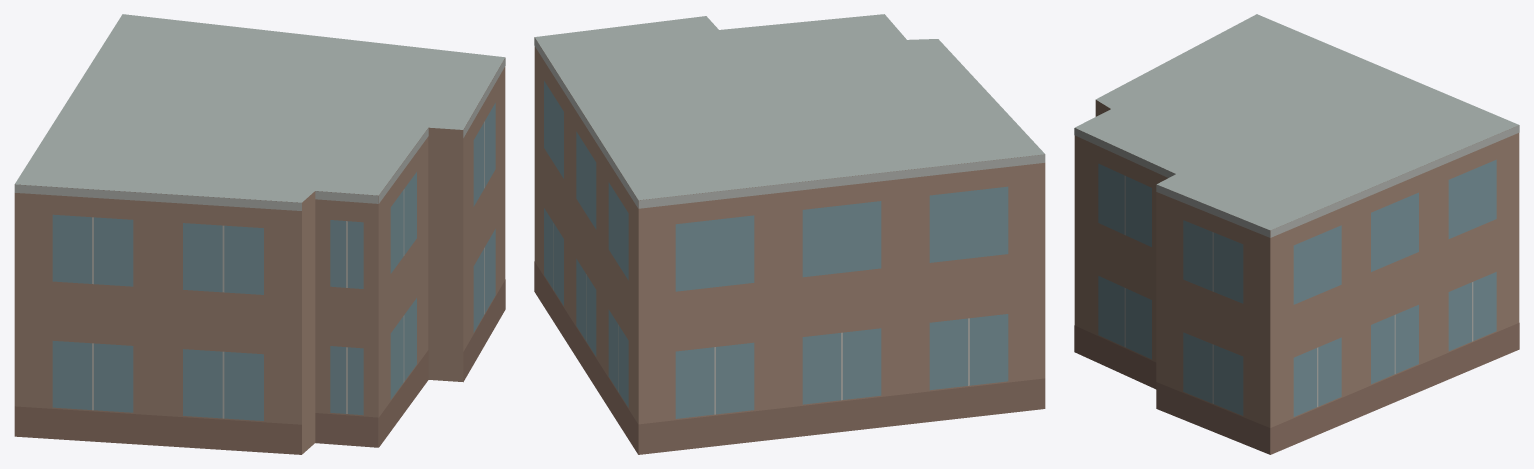
File: survey-upis-32960601.glb
3 renders of one model, left to right at view 1: azimuth 30°, elevation 25°; view 2: azimuth 150°, elevation 25°; view 3: azimuth 270°, elevation 25°, orthographic. The views are drawn at different scales.
Visible parts, largest first — view 1: survey-upis-32960601.tmp; view 2: survey-upis-32960601.tmp; view 3: survey-upis-32960601.tmp.
Boxes of the visible parts, left/top/right/bottom form: survey-upis-32960601.tmp: left=14, top=14, right=505, bottom=454; survey-upis-32960601.tmp: left=534, top=14, right=1045, bottom=454; survey-upis-32960601.tmp: left=1074, top=14, right=1519, bottom=454.
Bounding box in the file's own units: 15.11 × 7.3 × 13.13.
